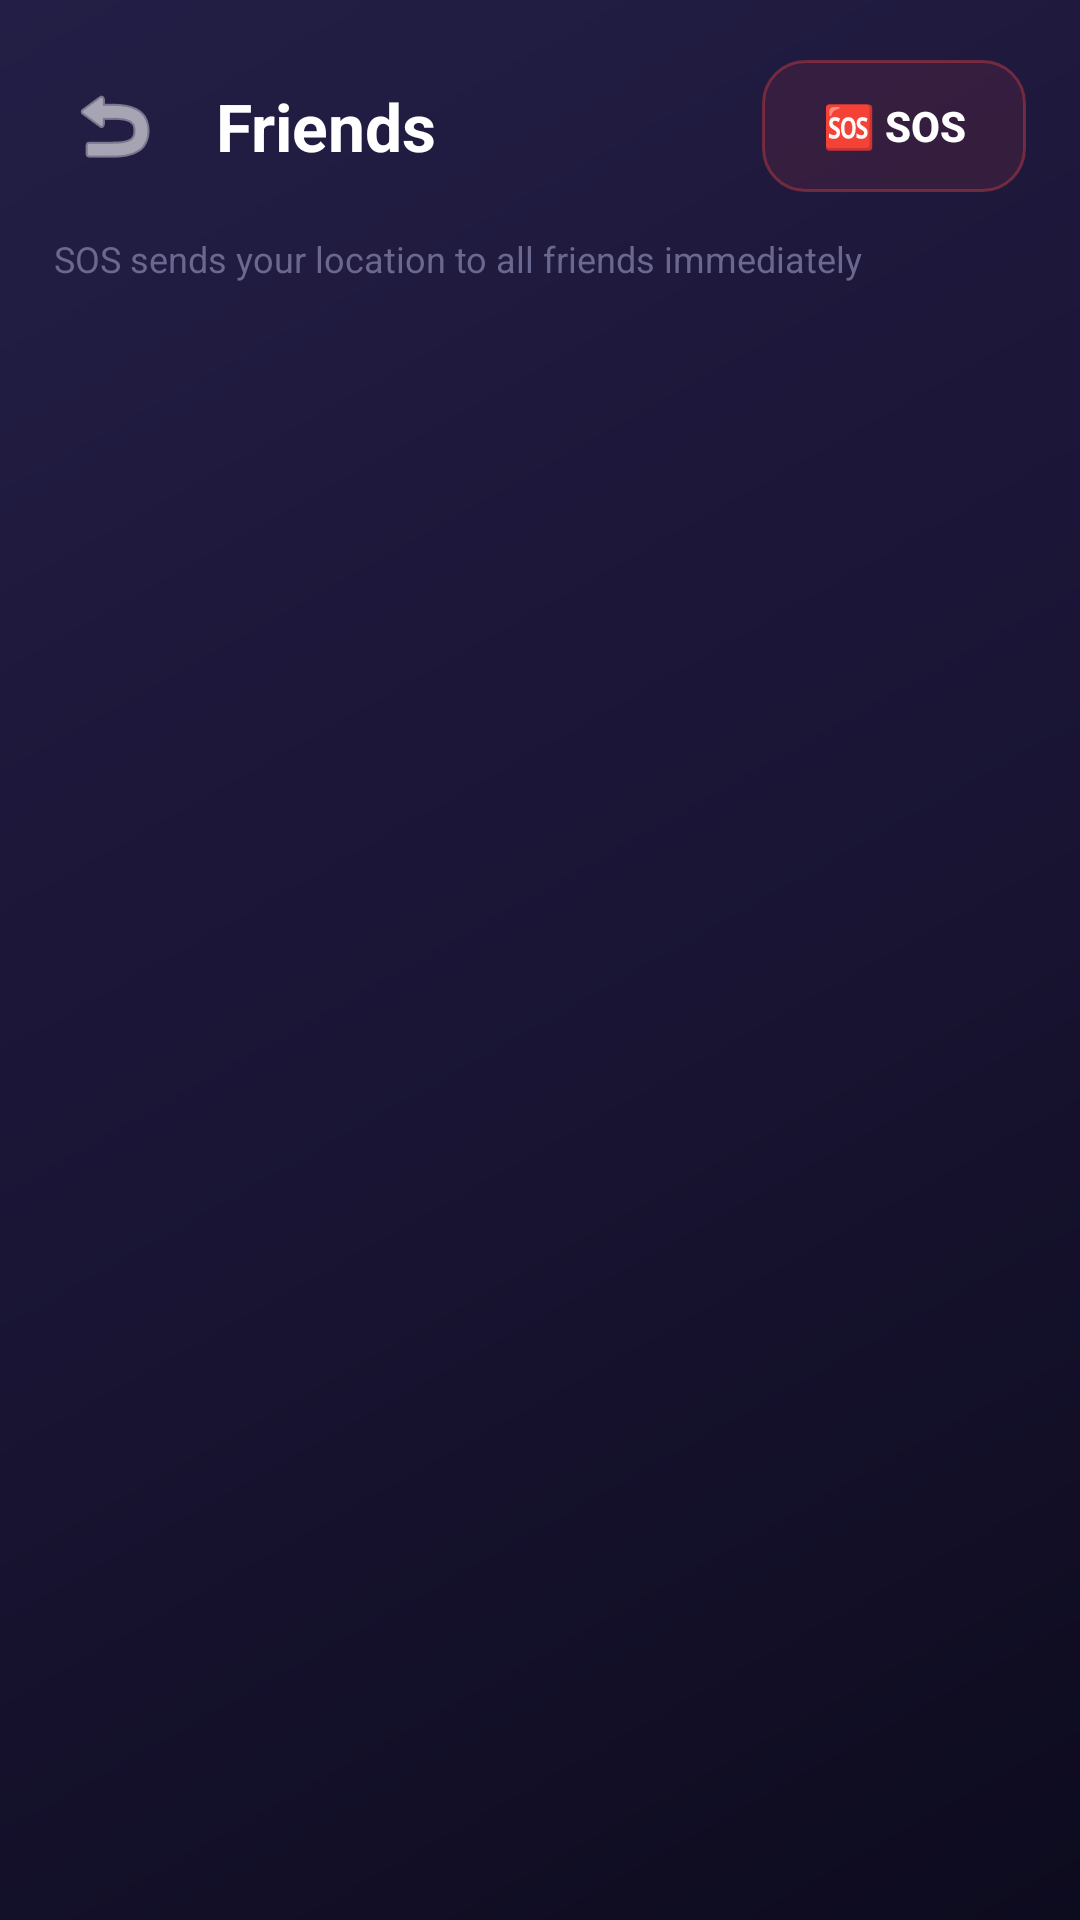

Where to tap for icons on this 1080 × 1920 app screen, as (x,y):
Back: (115,126)
